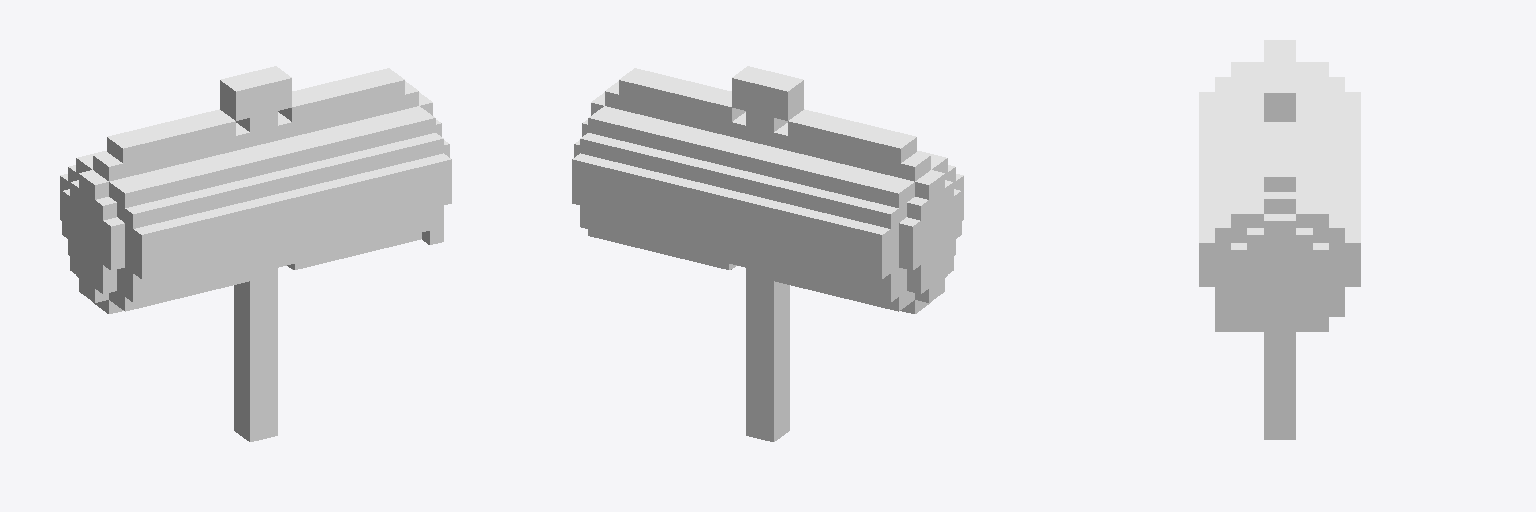
File: Ppyong_Hammer.obj
3 views of the same model, side by side, from view 1: azimuth 30°, elevation 25°; view 2: azimuth 150°, elevation 25°; view 3: azimuth 270°, elevation 25° (orthographic).
Parts seen in each view (by area): view 1: object 1; view 2: object 1; view 3: object 1.
Part boxes in pixels (bbox=[...]): object 1: bbox=[60, 66, 451, 441]; object 1: bbox=[572, 66, 963, 441]; object 1: bbox=[1199, 40, 1360, 439].
Bounding box in the file's own units: 2.4 × 2.4 × 1.